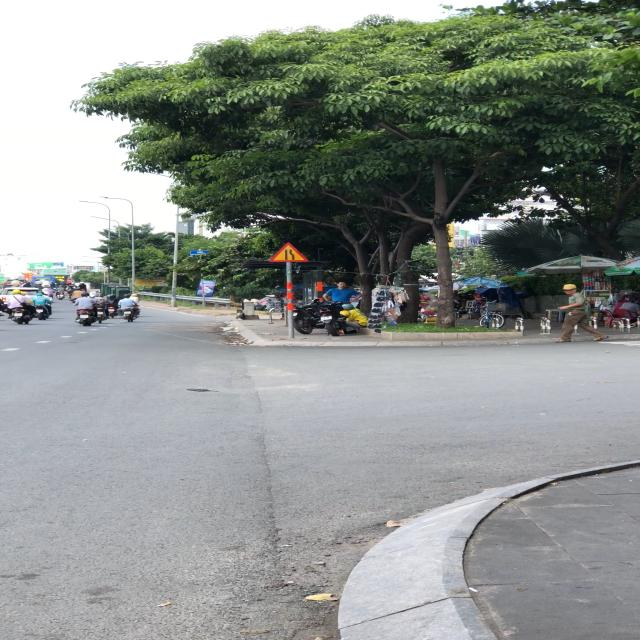Bien bao duong bi thu hep: (267, 242, 313, 263)
